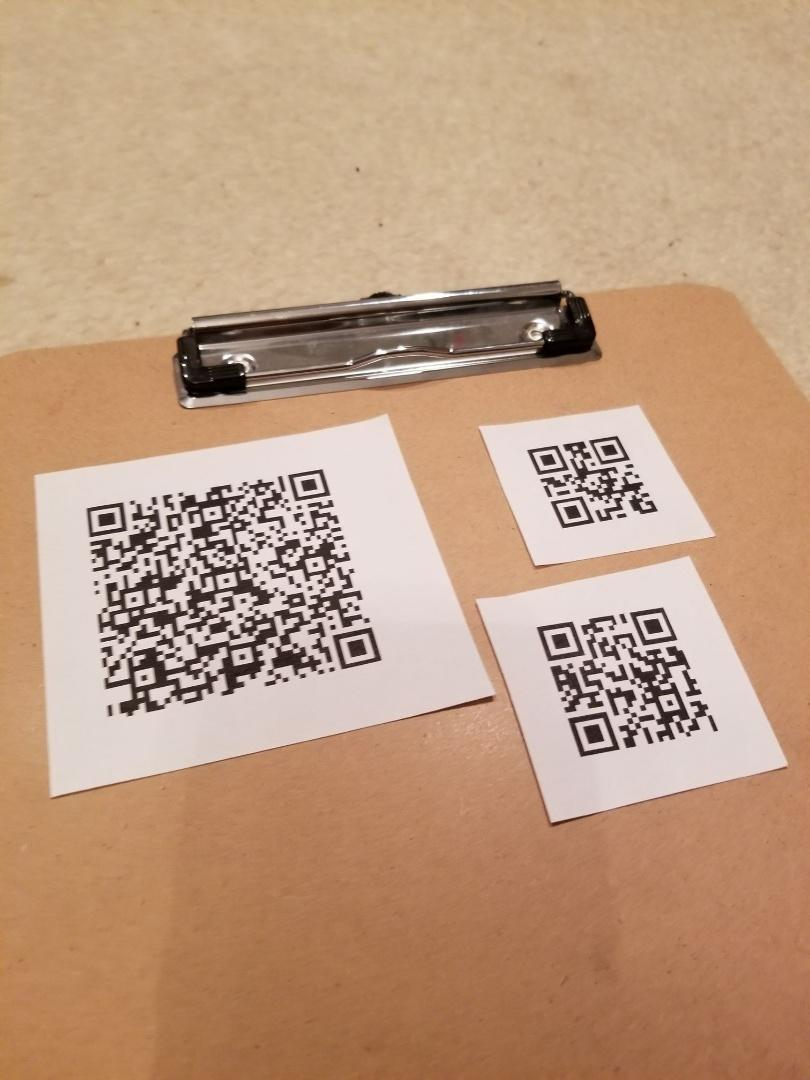qr_code: (87, 469, 382, 718), (537, 607, 719, 759), (527, 436, 658, 530)
